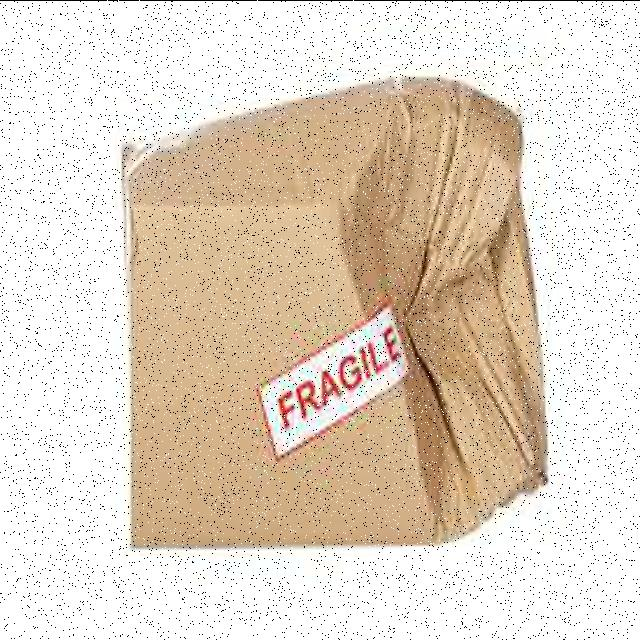defect: (115, 70, 556, 555)
